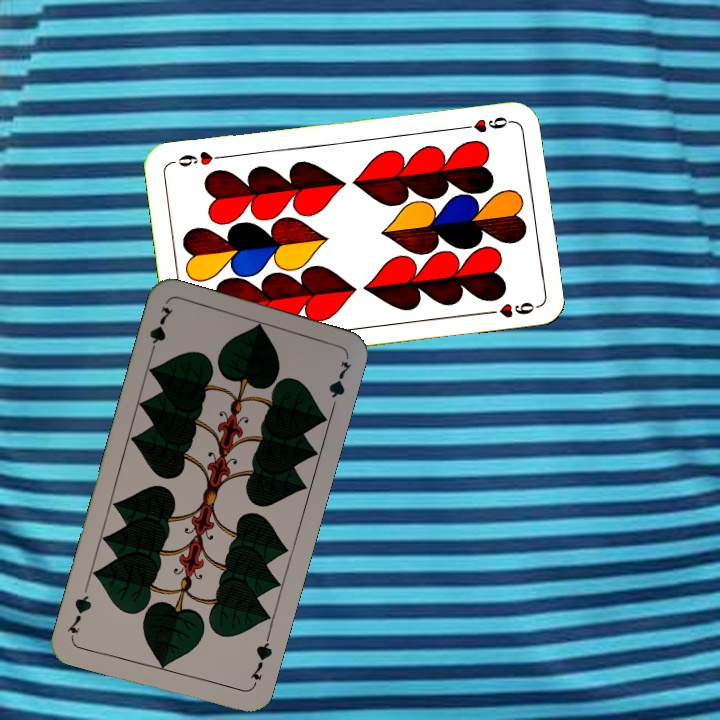G7: (145, 302, 176, 360), (246, 632, 275, 690)
H9: (456, 112, 515, 136)
